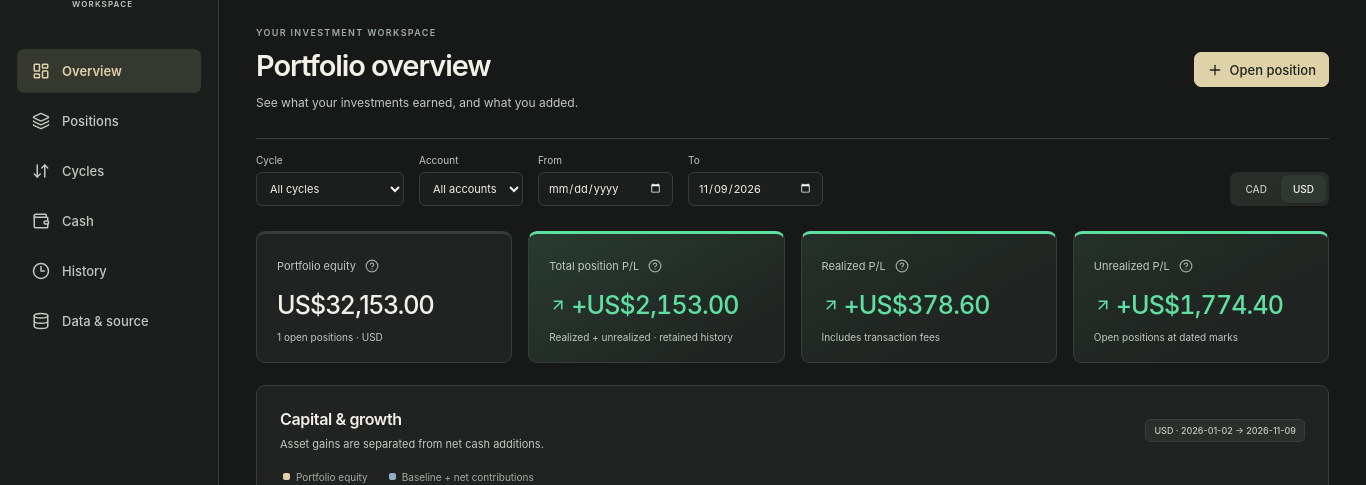
Test case: clears incompatible cycle filters when another dataset is selected
Expected: the heading "Portfolio overview" is shown, [256,48,490,83]
Select "2026 · Core strategy" in the dropdown named "Cycle filter" at [330, 189], box [256,172,404,206]
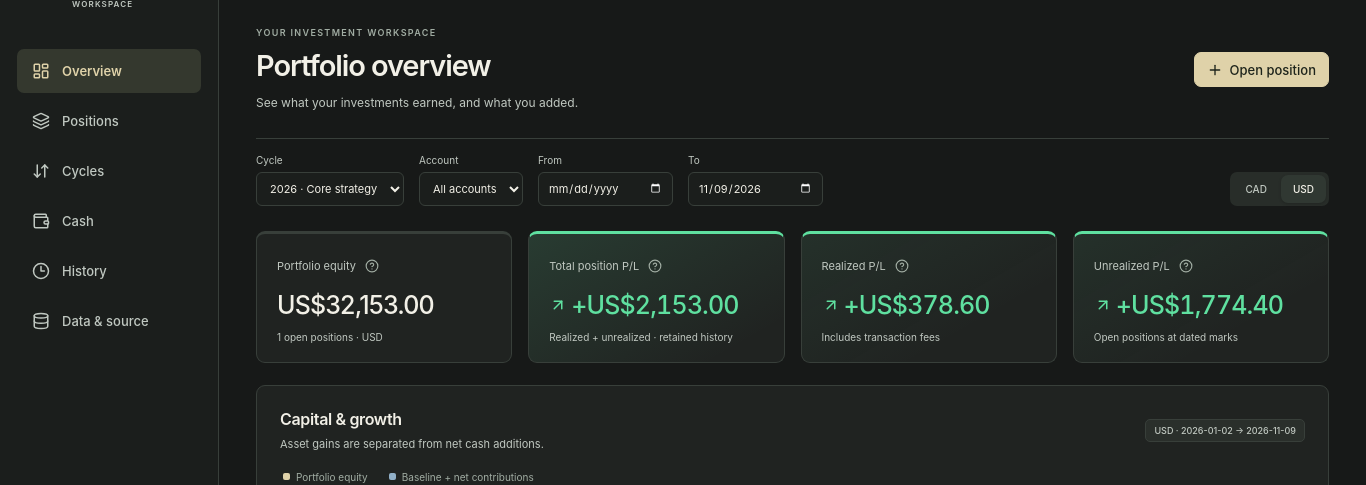
Click the button "Data & source" at [109, 321], box [17,299,201,343]
(page scrolled)
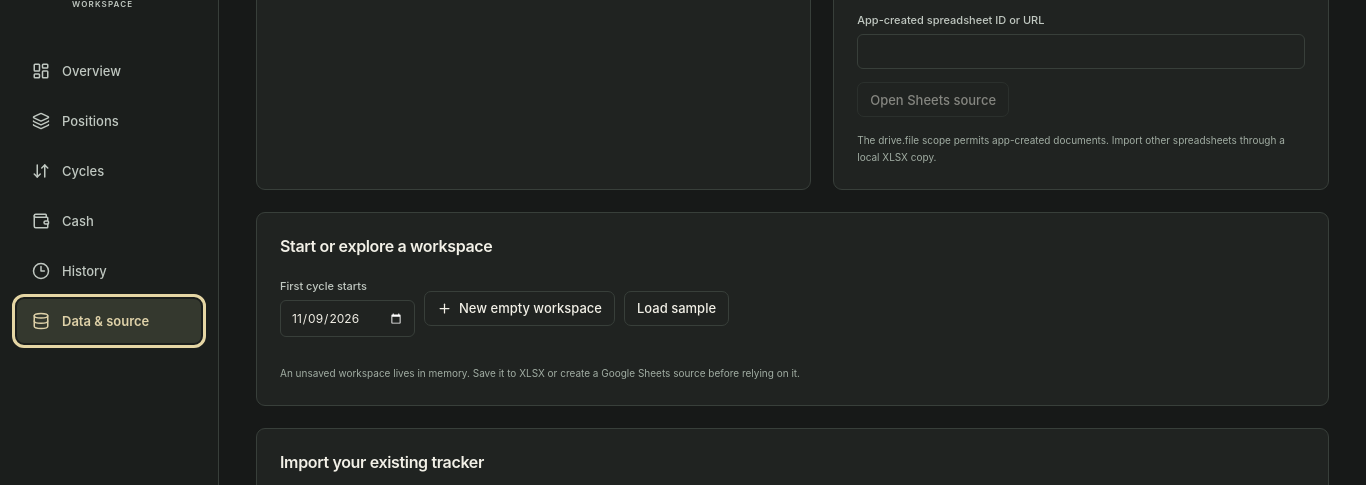
Click the button "Load sample" at [677, 308], box [624,291,729,326]
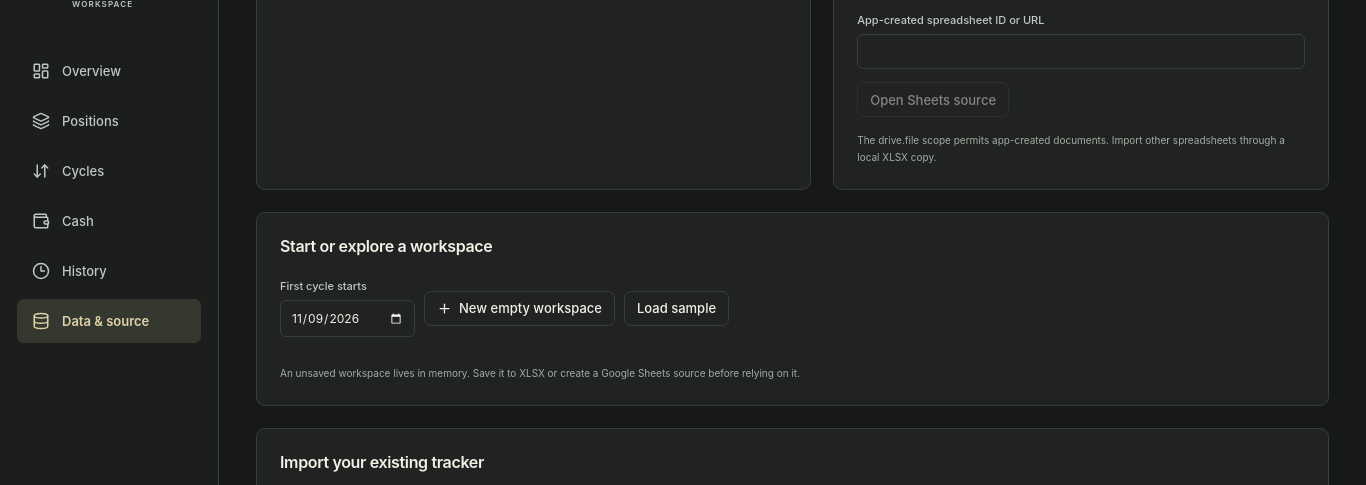
Click the button "Overview" at [109, 71], box [17,49,201,93]
(page scrolled)
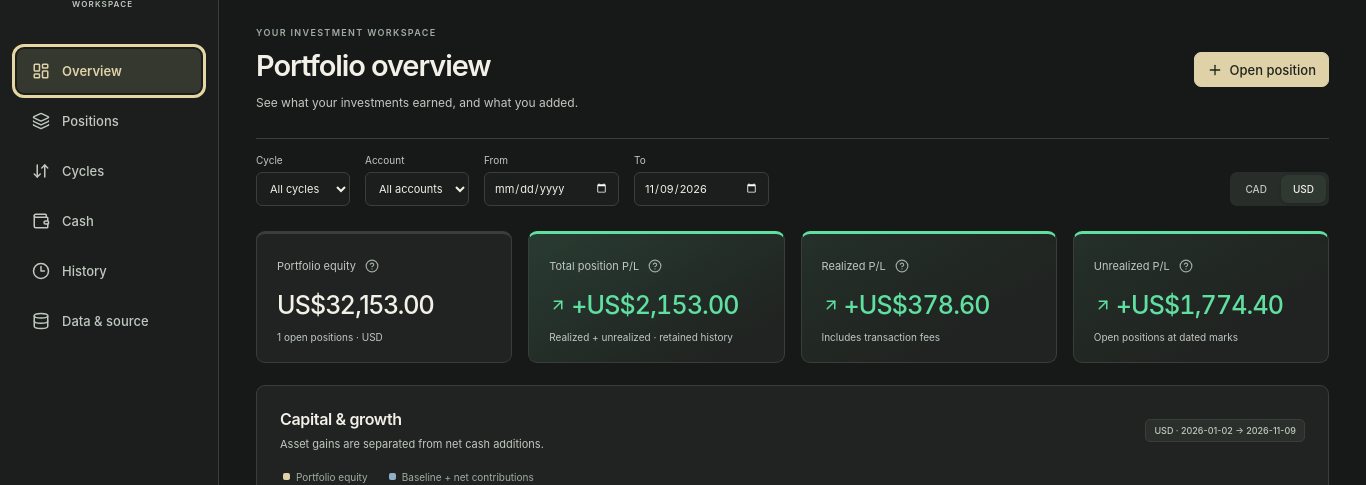
Expected: the dropdown named "Cycle filter" shows "All cycles", [256,172,350,206]
